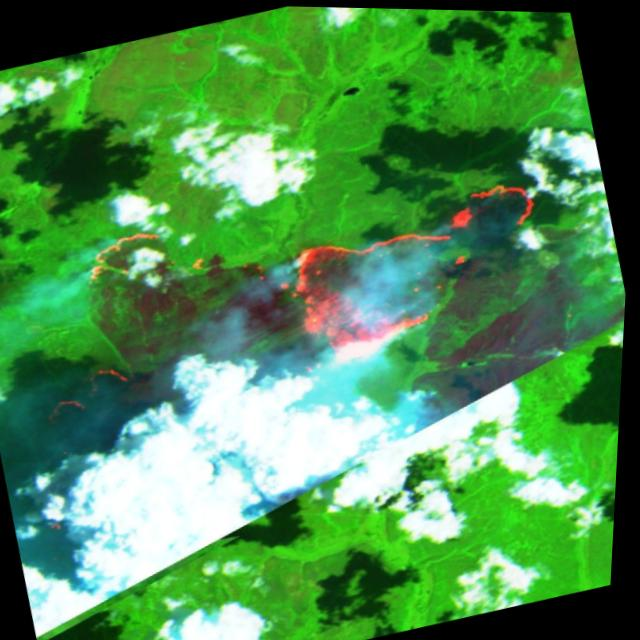fire: (260, 159, 570, 388), (71, 215, 182, 304), (33, 356, 138, 441)
